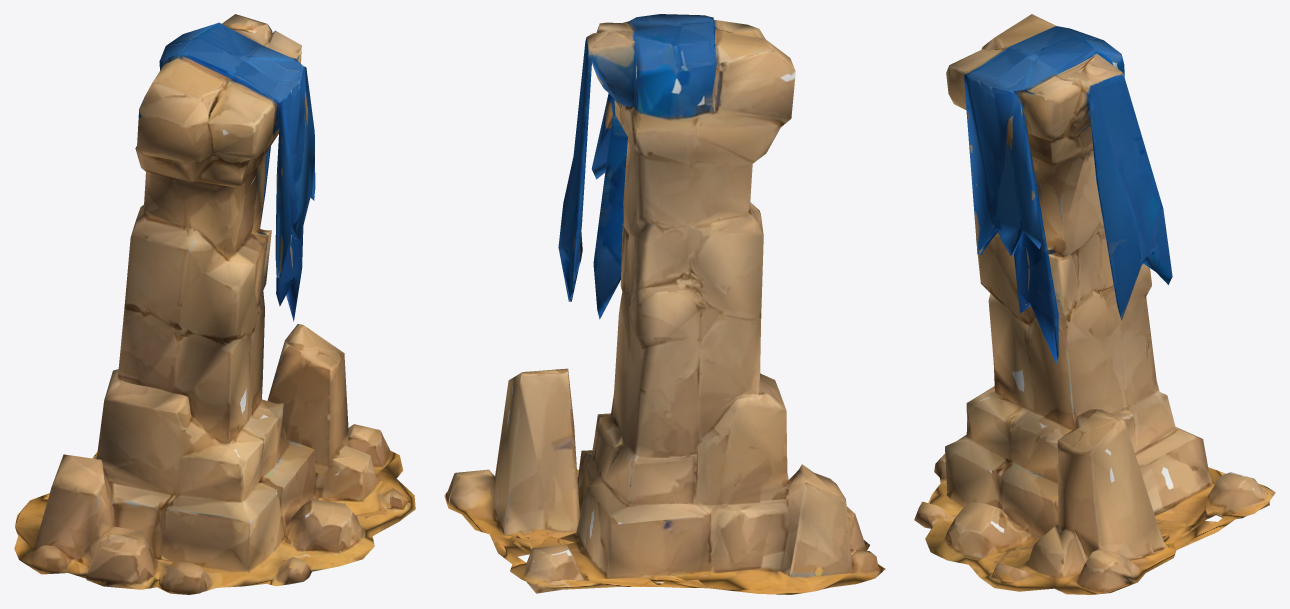
File: dec_pillar.glb
The picture shows the model from 3 angles, left to right: view 1: azimuth 30°, elevation 25°; view 2: azimuth 150°, elevation 25°; view 3: azimuth 270°, elevation 25°; orthographic projection. The views are drawn at different scales.
Parts seen in each view (by area): view 1: BakeLow; view 2: BakeLow; view 3: BakeLow.
Boxes of the visible parts, x1,y1,x2,y2 form: BakeLow: (14, 14, 415, 594); BakeLow: (444, 14, 885, 594); BakeLow: (914, 14, 1275, 594).
Size of the model in its own units: 0.6929 by 0.8345 by 0.5689.
Materials: 1 (1 with a texture image).
